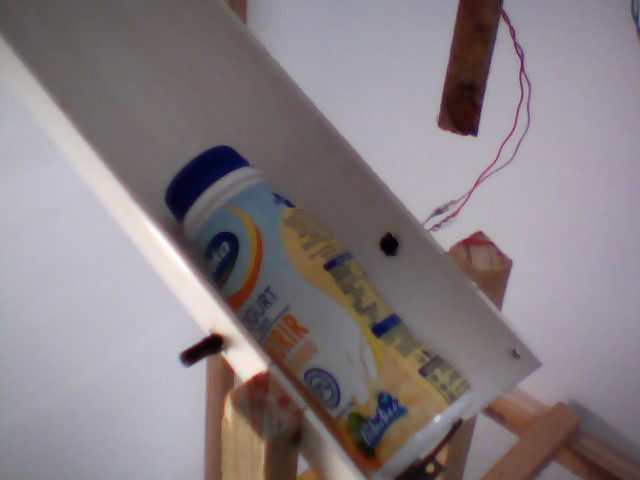plastico: (164, 141, 480, 477)
